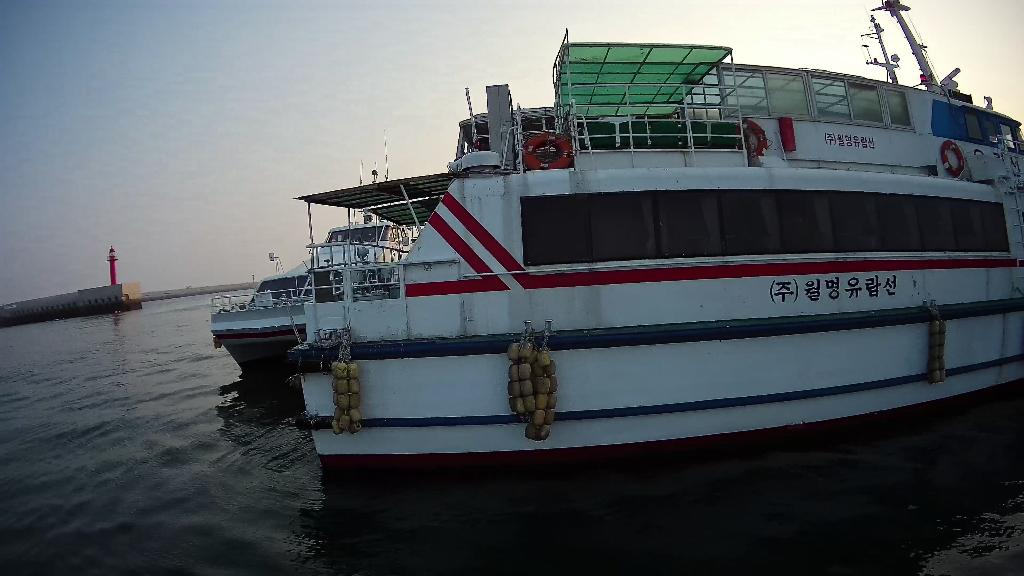PassengerShip: (294, 0, 1024, 454), (208, 122, 426, 368)
